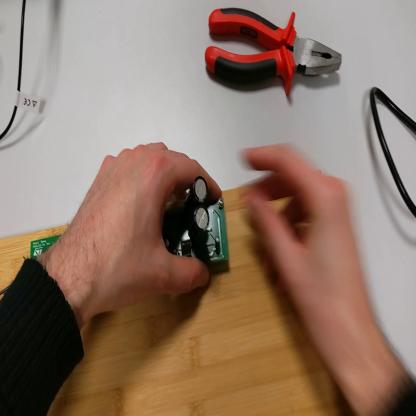hand: (245, 142, 375, 380), (66, 141, 222, 313)
high voltage board: (1, 177, 232, 299)
pliers: (204, 9, 346, 98)
working area: (1, 172, 348, 416)
